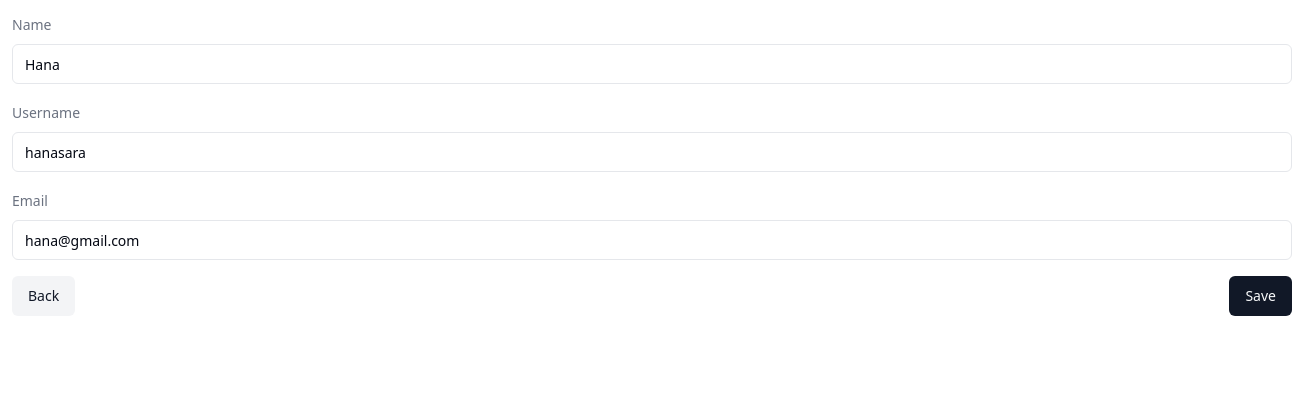
Test: Form Edit User › should display required error when value is invalid
Clear the 1st field with placeholder "Enter name" at (652,64), box [12,44,1292,84]
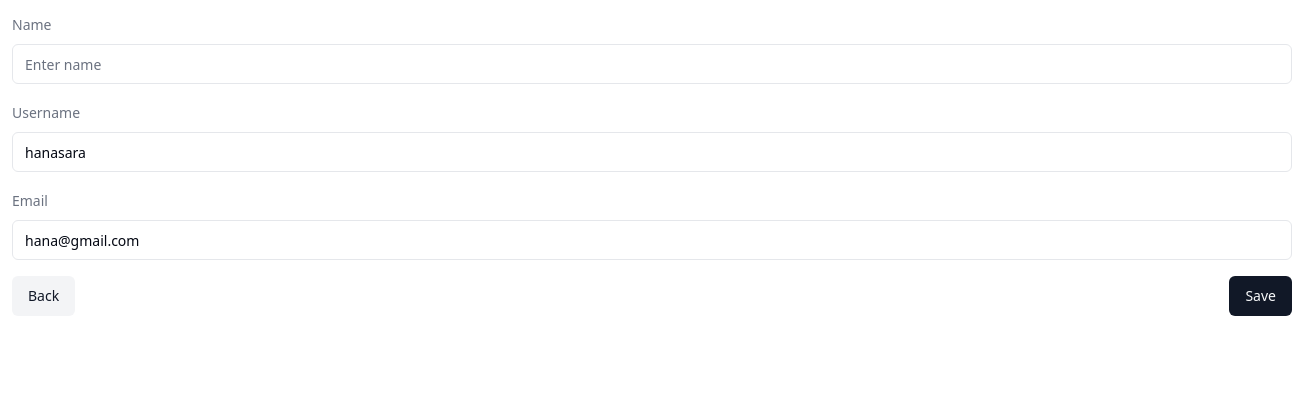
Clear the field with placeholder "Enter username" below "Username" at (652,152), box [12,132,1292,172]
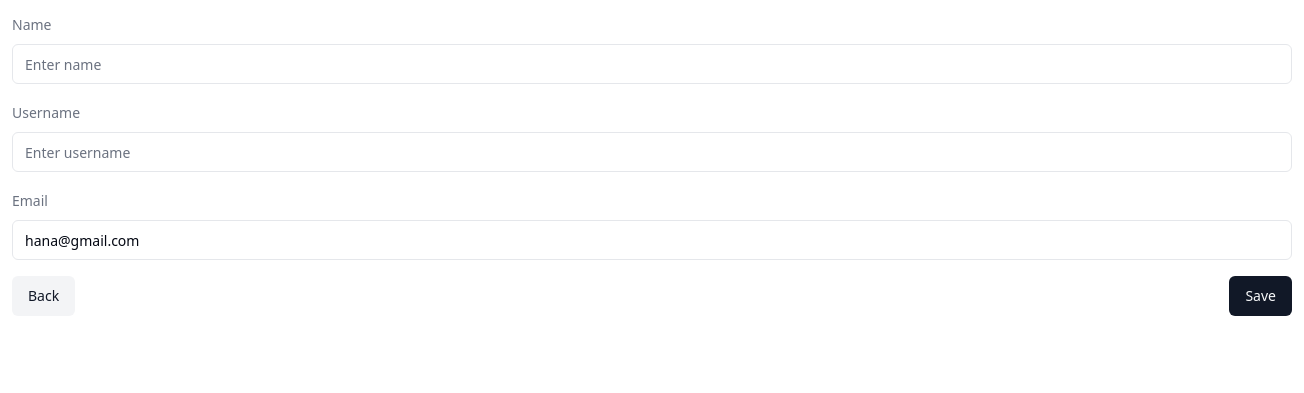
Clear the field with placeholder "Enter email address" at (652,240), box [12,220,1292,260]
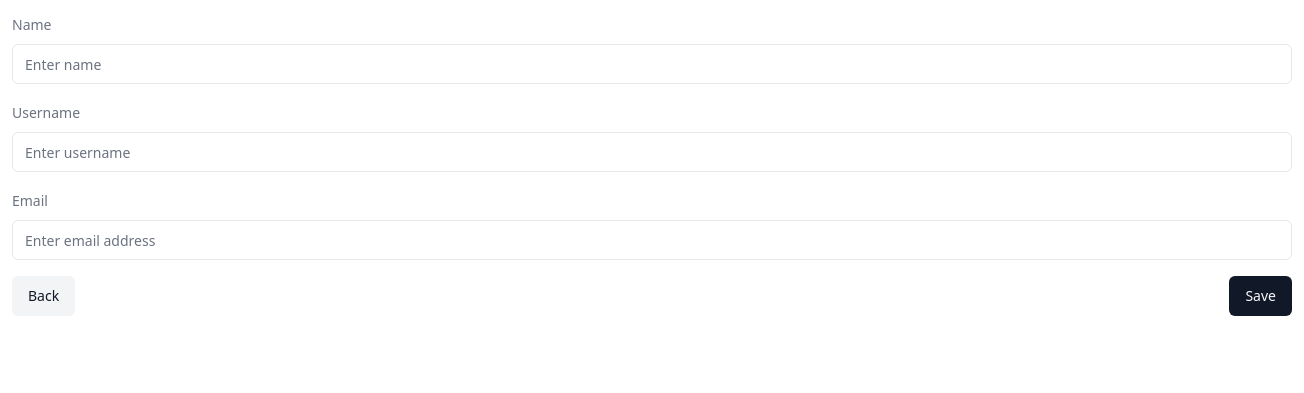
Submit the form from the button "Save", box [1229,276,1292,316]
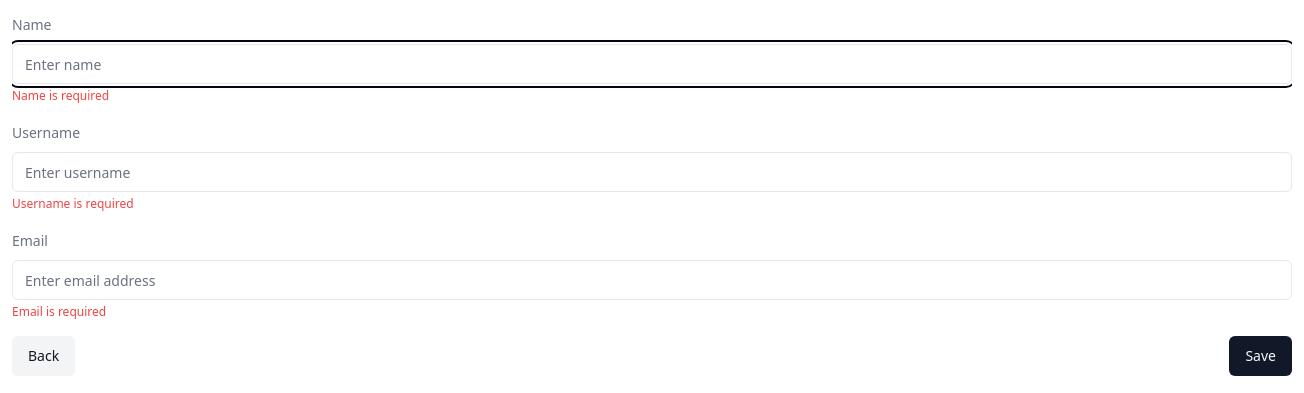
Check: the number of messages is 3, box [12,87,109,104]; [12,195,134,212]; [12,303,106,320]
